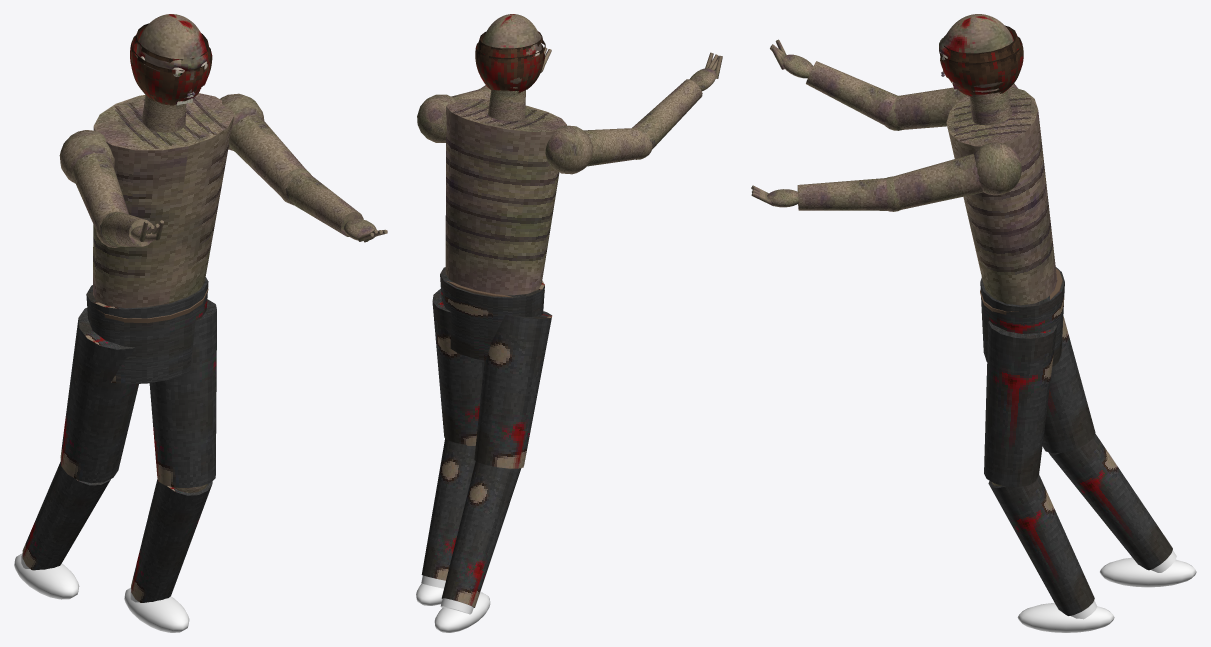
The model's file is Zombie_129.glb.
The picture shows the model from 3 angles, left to right: view 1: azimuth 30°, elevation 25°; view 2: azimuth 150°, elevation 25°; view 3: azimuth 270°, elevation 25°; orthographic projection. The views are drawn at different scales.
Visible parts, largest first — view 1: Zombie_129, object 16, object 10, object 43, object 3, object 42; view 2: Zombie_129, object 43, object 3, object 16, object 42; view 3: Zombie_129, object 10, object 3, object 16, object 43, object 42.
Part boxes in pixels (x1=…): Zombie_129: x1=14, y1=93, x2=306, y2=632; object 16: x1=136, y1=14, x2=208, y2=98; object 10: x1=285, y1=172, x2=363, y2=236; object 43: x1=130, y1=35, x2=212, y2=105; object 3: x1=100, y1=211, x2=152, y2=246; object 42: x1=131, y1=23, x2=210, y2=97; Zombie_129: x1=416, y1=87, x2=646, y2=632; object 43: x1=475, y1=40, x2=545, y2=94; object 3: x1=632, y1=79, x2=702, y2=149; object 16: x1=482, y1=14, x2=541, y2=87; object 42: x1=477, y1=31, x2=543, y2=91; Zombie_129: x1=893, y1=83, x2=1196, y2=632; object 10: x1=797, y1=178, x2=888, y2=210; object 3: x1=806, y1=61, x2=897, y2=124; object 16: x1=939, y1=14, x2=1013, y2=92; object 43: x1=939, y1=37, x2=1023, y2=96; object 42: x1=941, y1=25, x2=1020, y2=91.
Bounding box in the file's own units: 0.7684 × 2.03 × 1.37.
16 materials, 6 textured.
